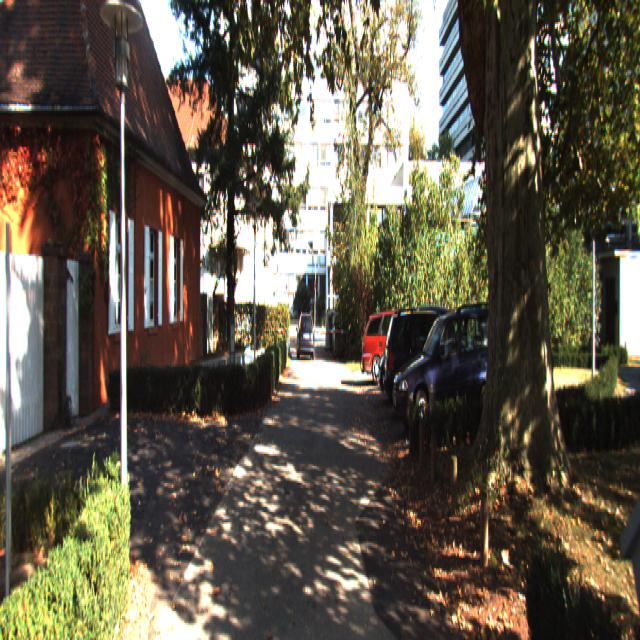Car: (389, 300, 512, 440), (382, 304, 483, 418), (377, 300, 458, 404), (363, 305, 434, 384), (298, 311, 315, 360)
